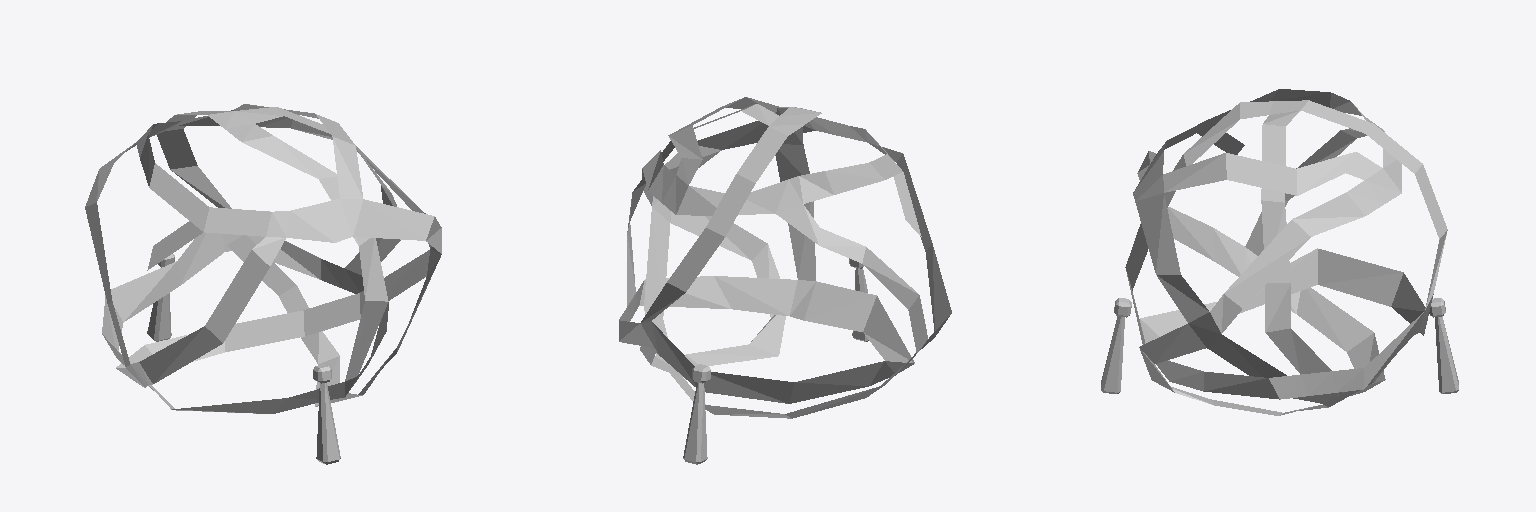
Rendered from sombreroMomia.obj.
The picture shows the model from 3 angles: view 1: azimuth 30°, elevation 25°; view 2: azimuth 150°, elevation 25°; view 3: azimuth 270°, elevation 25°; orthographic projection.
Parts seen in each view (by area): view 1: momiaSombrero, momiaPendientes; view 2: momiaSombrero, momiaPendientes; view 3: momiaSombrero, momiaPendientes.
Part boxes in pixels (left/top/right/bottom): momiaSombrero: left=85, top=104, right=441, bottom=413; momiaPendientes: left=147, top=254, right=340, bottom=464; momiaSombrero: left=619, top=97, right=951, bottom=418; momiaPendientes: left=683, top=258, right=868, bottom=464; momiaSombrero: left=1125, top=89, right=1447, bottom=415; momiaPendientes: left=1101, top=298, right=1458, bottom=393.
Bounding box in the file's own units: 2.24 × 2.01 × 2.31.